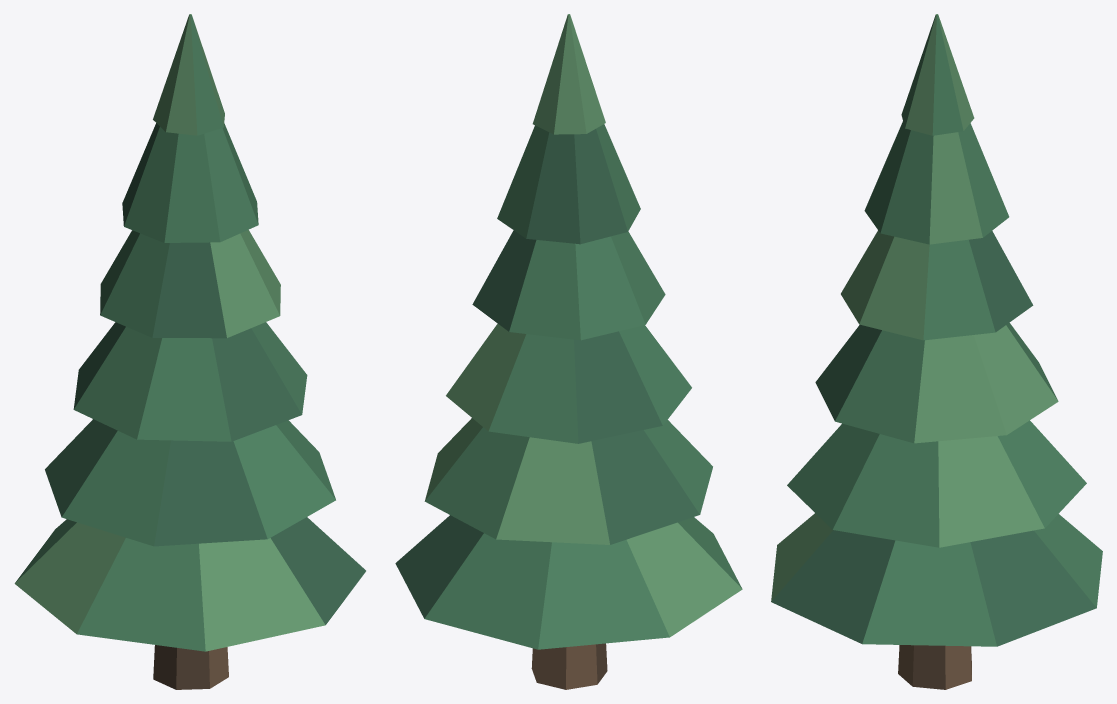
File: tree_pine_02.glb
The picture shows the model from 3 angles, left to right: view 1: azimuth 30°, elevation 25°; view 2: azimuth 150°, elevation 25°; view 3: azimuth 270°, elevation 25°; orthographic projection.
Parts seen in each view (by area): view 1: tree_pine_02; view 2: tree_pine_02; view 3: tree_pine_02.
Part boxes in pixels (x1=…): tree_pine_02: x1=14, y1=14, x2=365, y2=689; tree_pine_02: x1=395, y1=14, x2=742, y2=689; tree_pine_02: x1=771, y1=14, x2=1102, y2=689.
Bounding box in the file's own units: 2.55 × 5.6 × 2.55.
